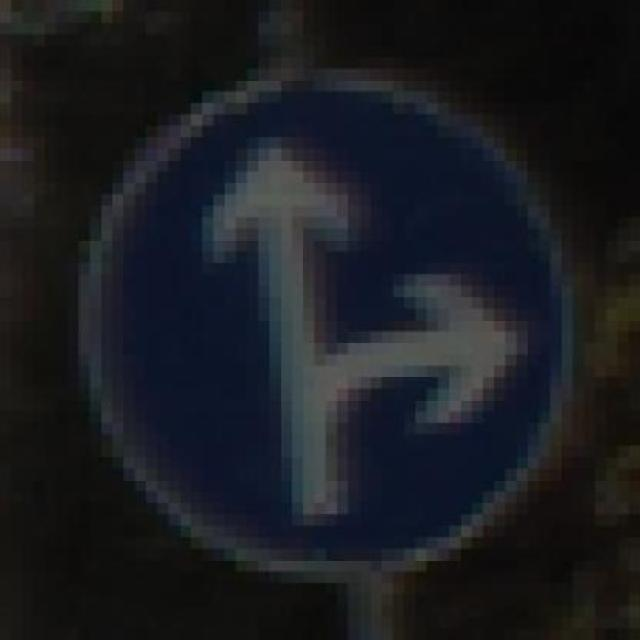Go Straight or Turn Right: (67, 68, 584, 594)
